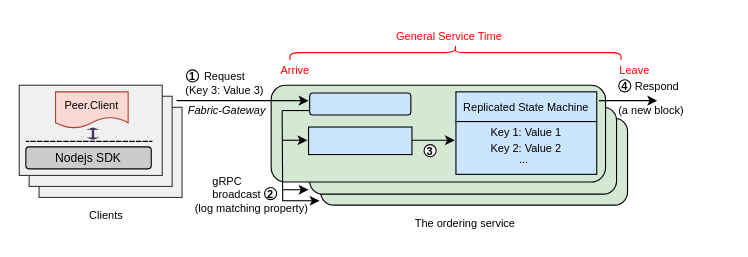
This 748x257 diagram has some shape labels left out. Here are the shapes that lost their labels. From the top down, the centre of each, then its label:
At (360,103): "Consensus".
At (359,140): "Replicated WAL".
